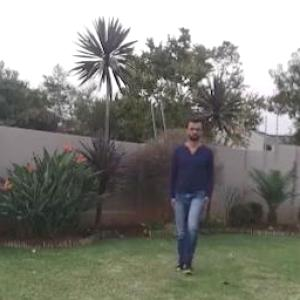follow: (167, 114, 212, 267)
